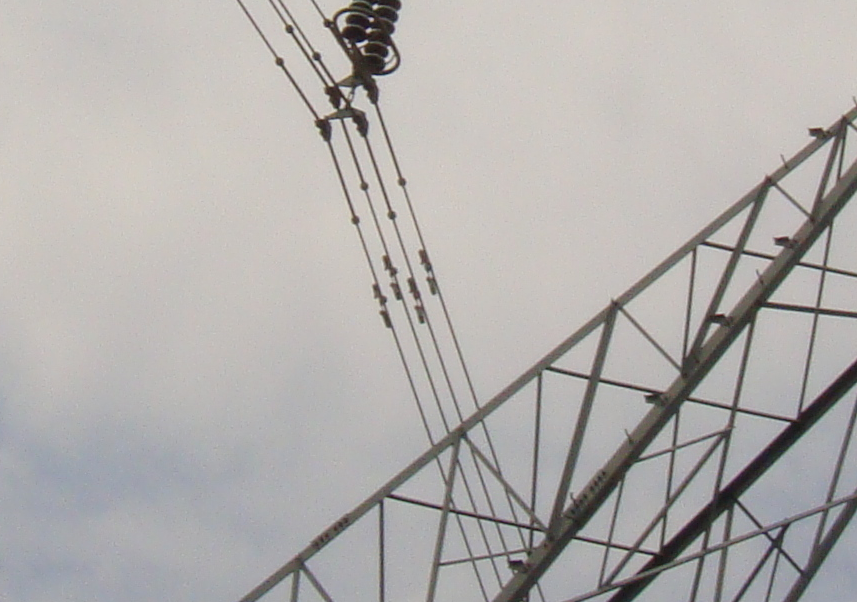damper: (371, 278, 394, 331), (381, 251, 404, 303), (417, 247, 439, 298), (407, 275, 427, 324)
